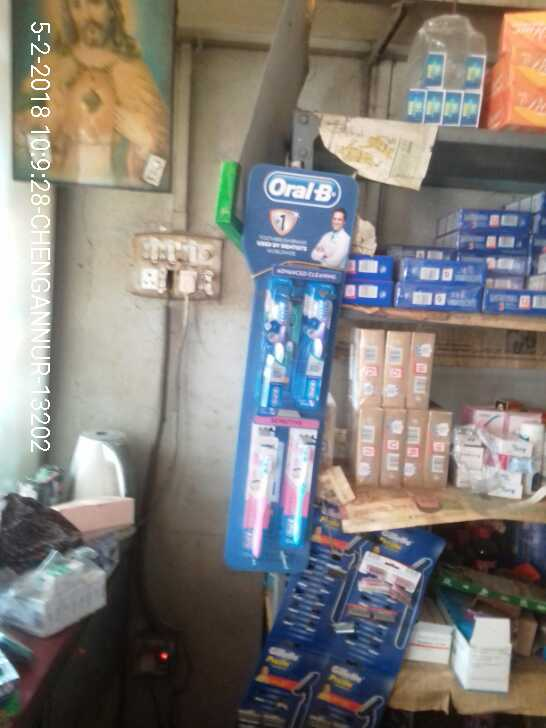oralb: (236, 423, 279, 562), (254, 280, 296, 413), (294, 277, 332, 407), (285, 424, 320, 545)
